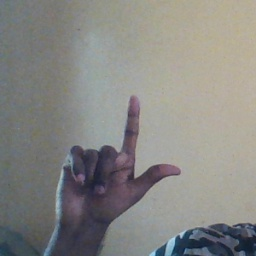L: (49, 93, 183, 233)
